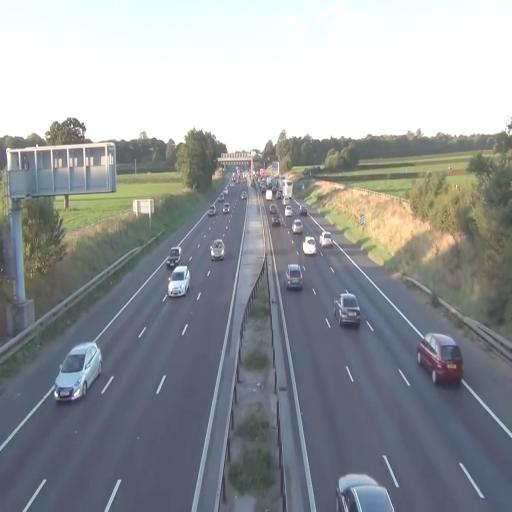vehicle: (54, 342, 102, 403), (416, 332, 464, 386), (336, 473, 395, 512), (334, 292, 361, 329), (167, 265, 190, 297), (284, 263, 304, 290), (210, 238, 225, 260), (302, 236, 317, 258), (320, 232, 333, 250), (292, 218, 304, 236)
